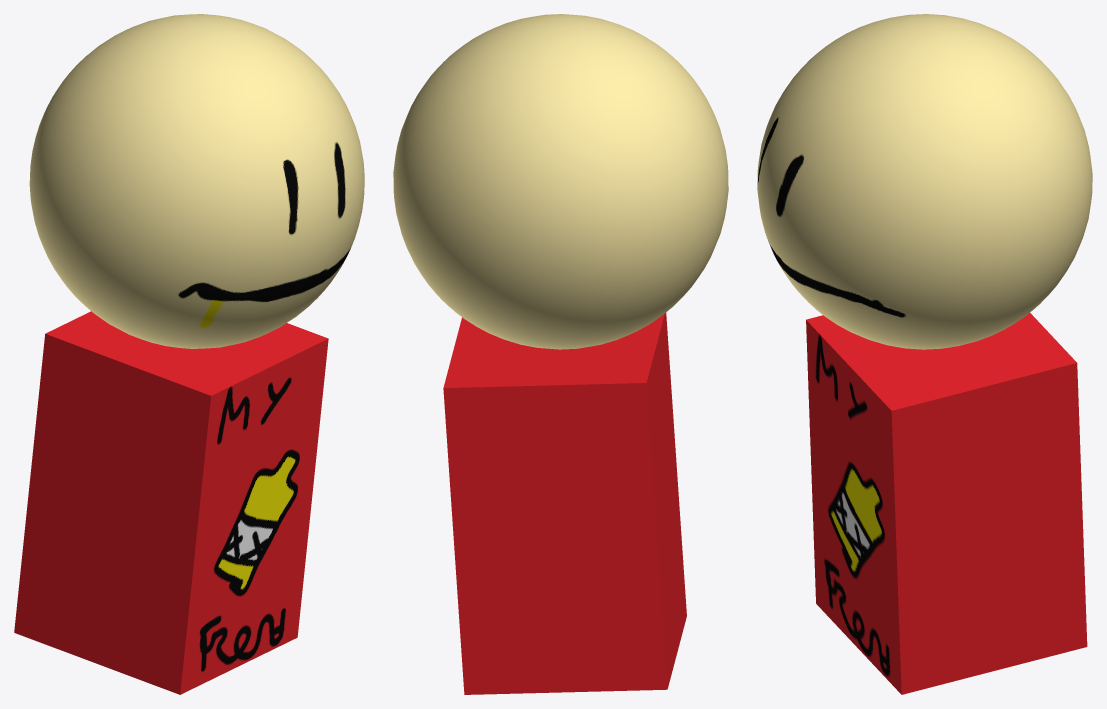
File: Red Guy v2.glb
The picture shows the model from 3 angles, left to right: view 1: azimuth 30°, elevation 25°; view 2: azimuth 150°, elevation 25°; view 3: azimuth 270°, elevation 25°; orthographic projection.
Visible parts, largest first — view 1: mesh_id39, mesh_id27; view 2: mesh_id27, mesh_id39; view 3: mesh_id39, mesh_id27.
Boxes of the visible parts, x1,y1,x2,y2 form: mesh_id39: (14, 311, 328, 694); mesh_id27: (29, 14, 364, 348); mesh_id27: (393, 14, 728, 349); mesh_id39: (443, 312, 686, 694); mesh_id39: (806, 313, 1087, 694); mesh_id27: (757, 14, 1092, 349).
Size of the model in its own units: 0.1999 by 0.4087 by 0.1998.
2 materials, 2 textured.
